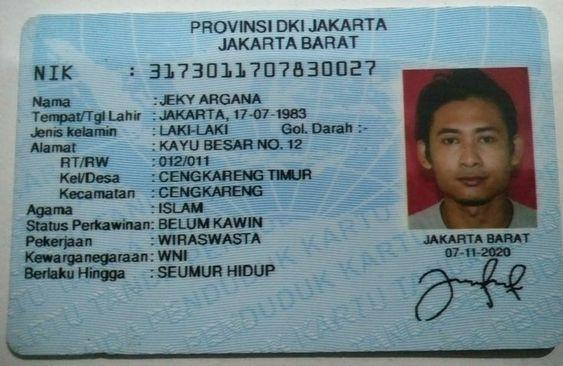ID-card: (7, 6, 554, 350)
